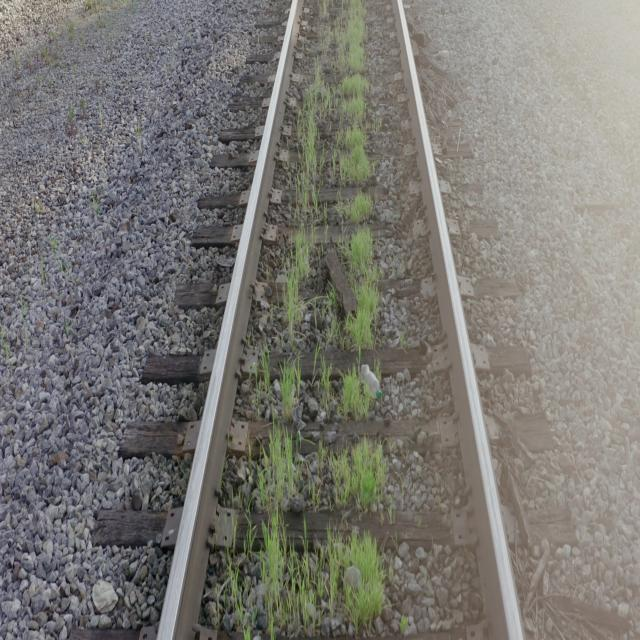Plant: (285, 0, 372, 340), (259, 424, 385, 636), (326, 193, 380, 356), (309, 438, 386, 511), (344, 533, 384, 629), (339, 369, 371, 420), (282, 369, 300, 418), (229, 560, 242, 607)
